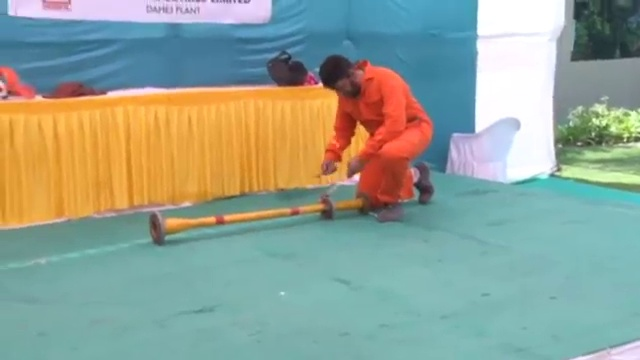helmet_off: (319, 54, 361, 96)
person: (315, 53, 432, 213)
